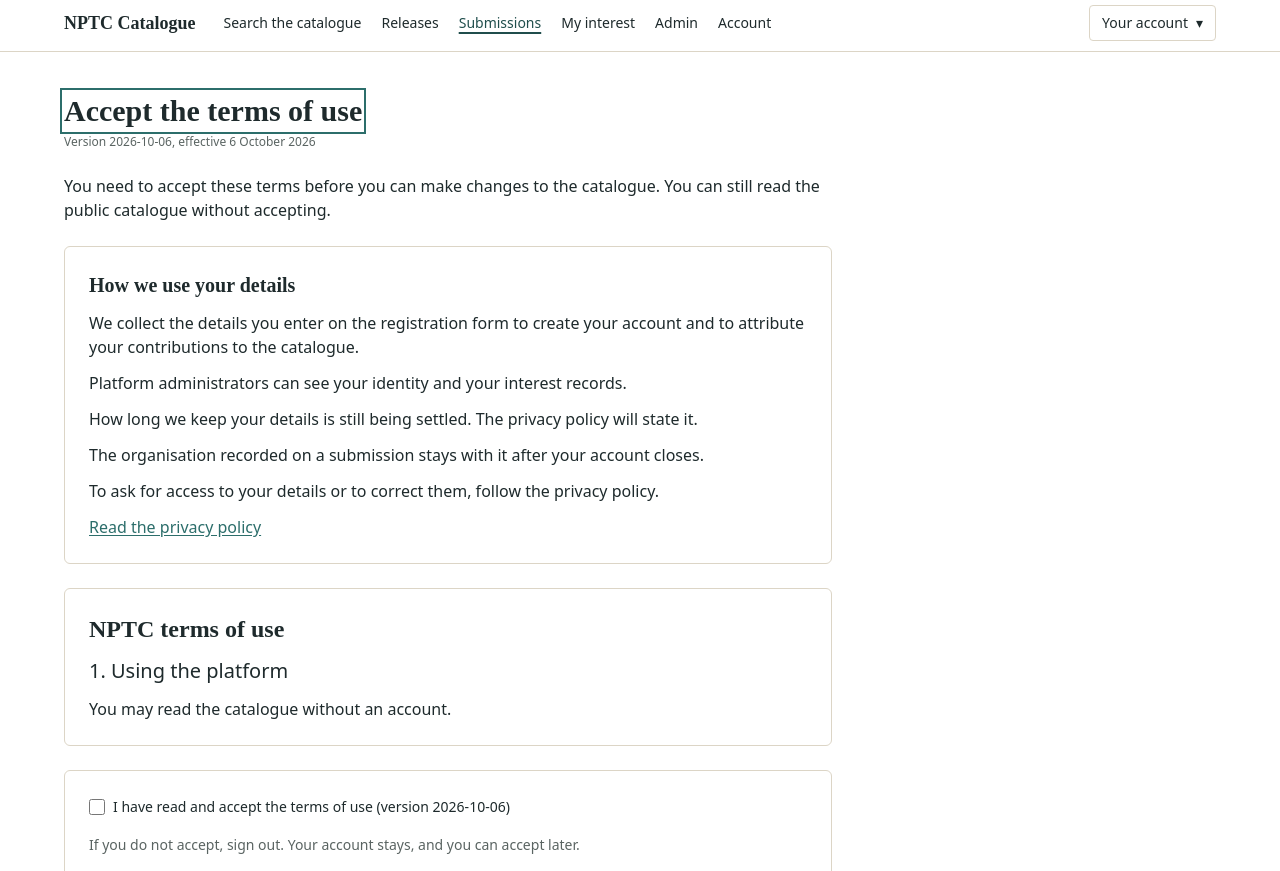
Test: a failed acceptance › uses its own sentence when the failure carries no detail
The width and height of the screenshot is (1280, 871).
Step 1. Click the checkbox → (97, 806), box top-left (89, 798), bottom-right (105, 814)
(page scrolled)
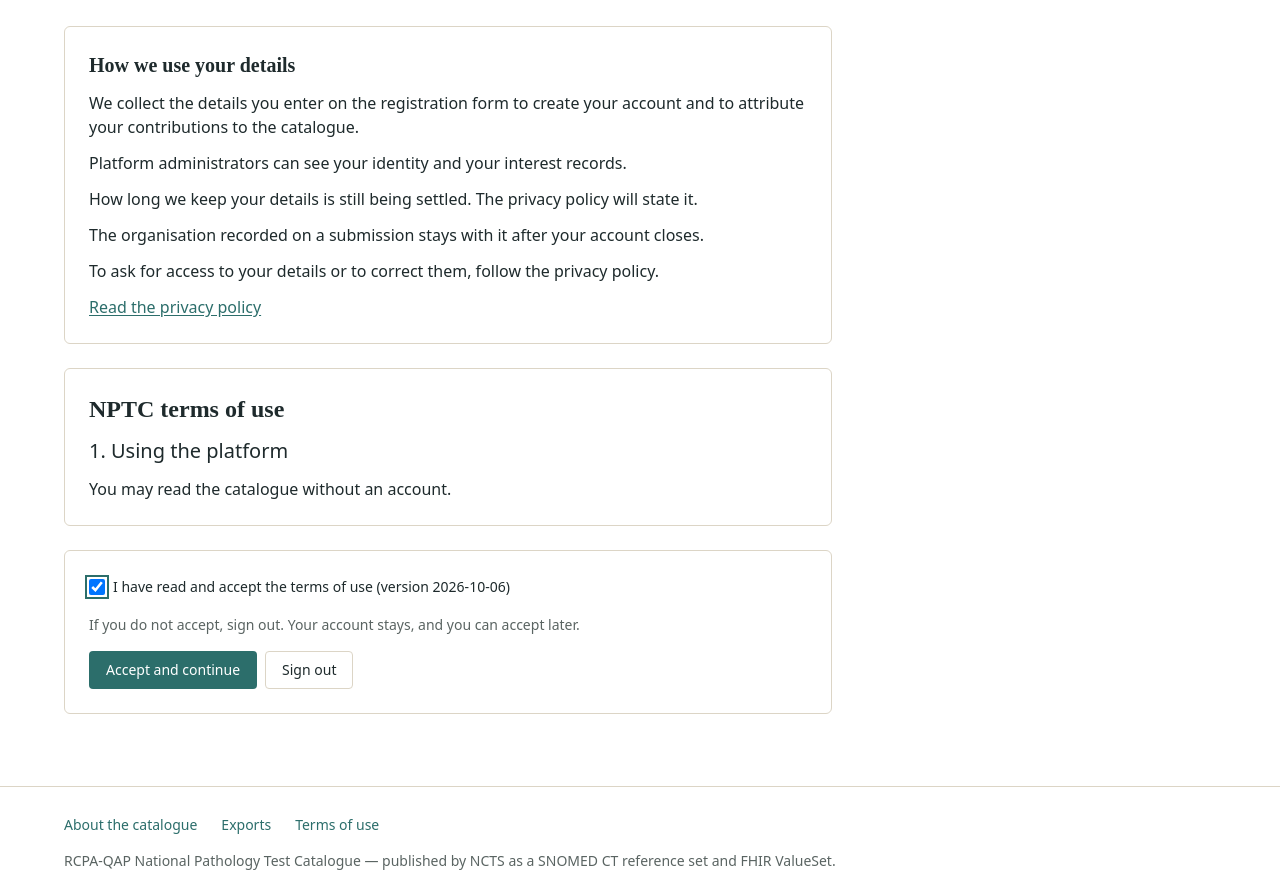
Step 2. Click the button "Accept and continue" → (173, 670), box top-left (89, 650), bottom-right (257, 688)
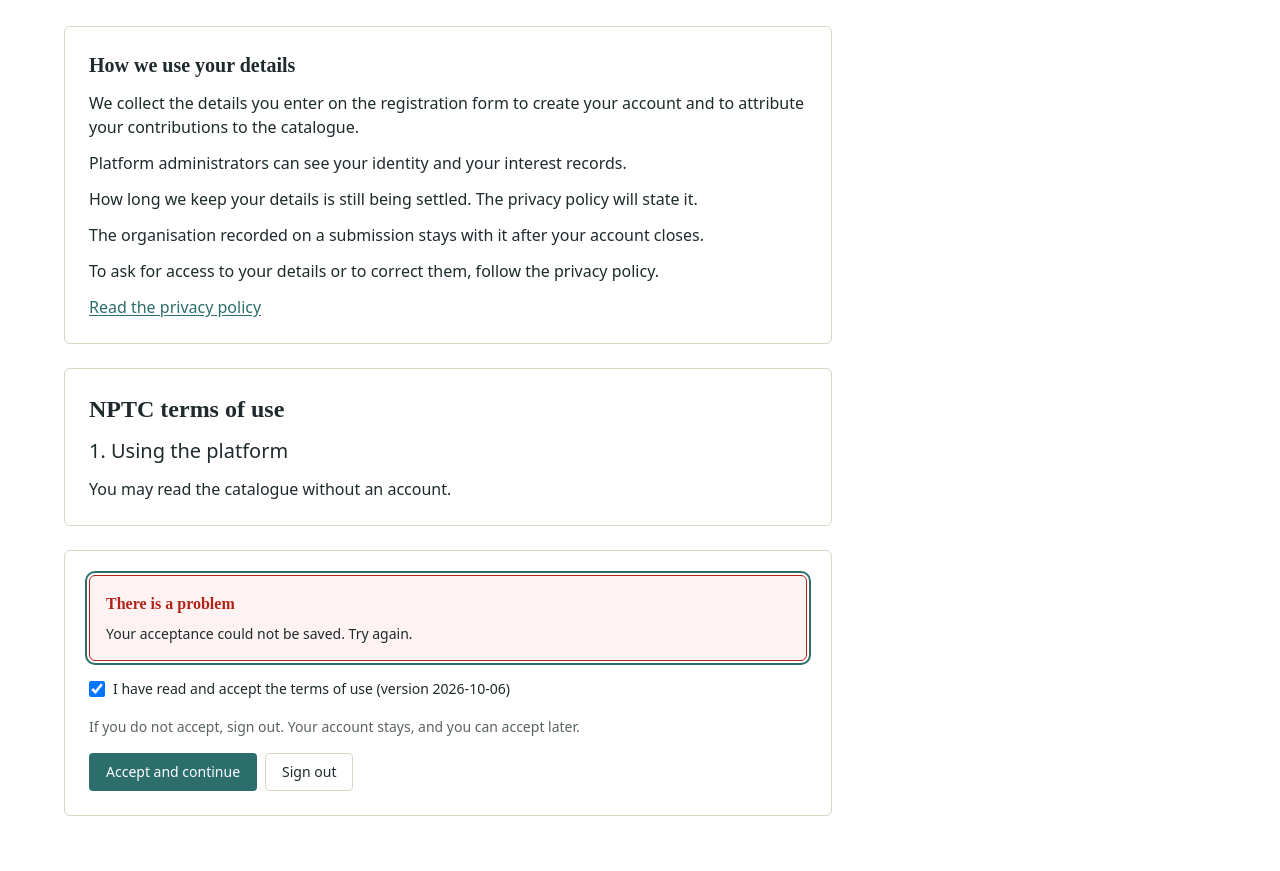
Result: the text "Your acceptance could not be saved. Try again." is shown at top-left (106, 624), bottom-right (413, 642)
